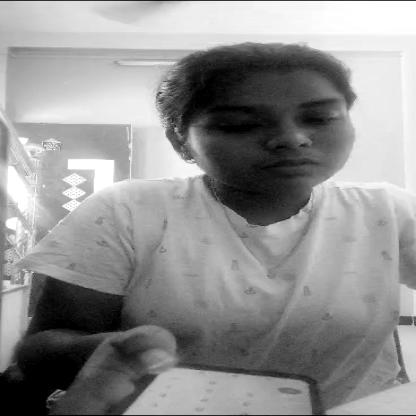Distracted: (180, 74, 352, 193)
